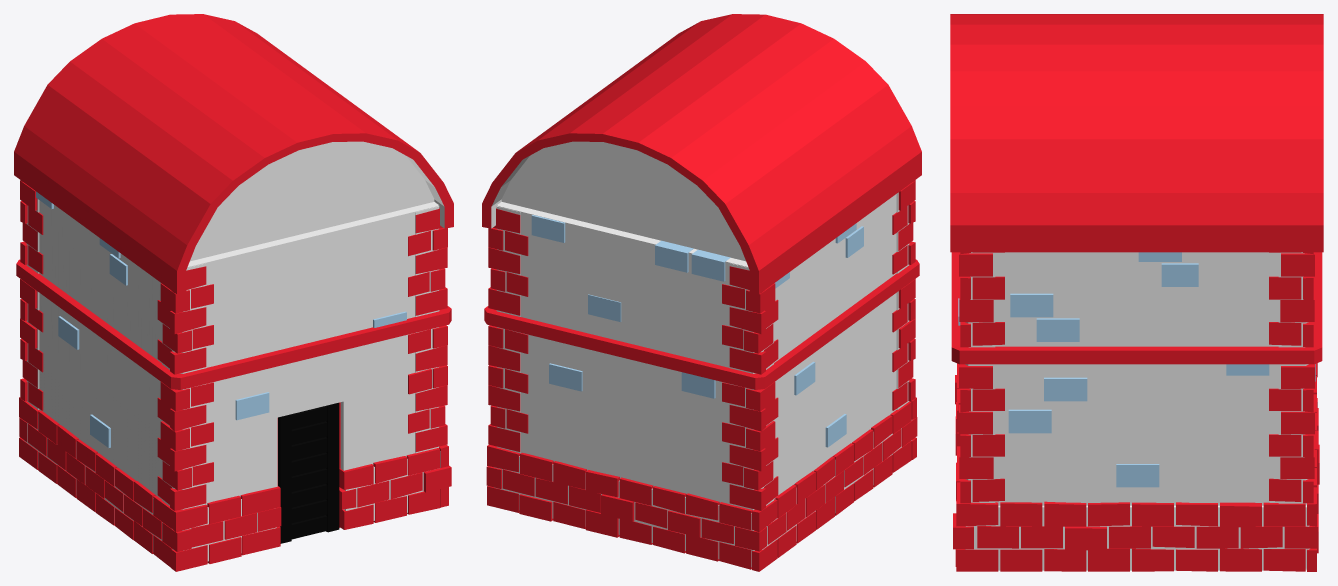
File: building_quaternius_2Story_RoundRoof.glb
3 views of the same model, side by side, from view 1: azimuth 30°, elevation 25°; view 2: azimuth 150°, elevation 25°; view 3: azimuth 270°, elevation 25° (orthographic). The views are drawn at different scales.
Size of the model in its own units: 2.11 by 2.9 by 2.13.
1 material, 1 textured.
